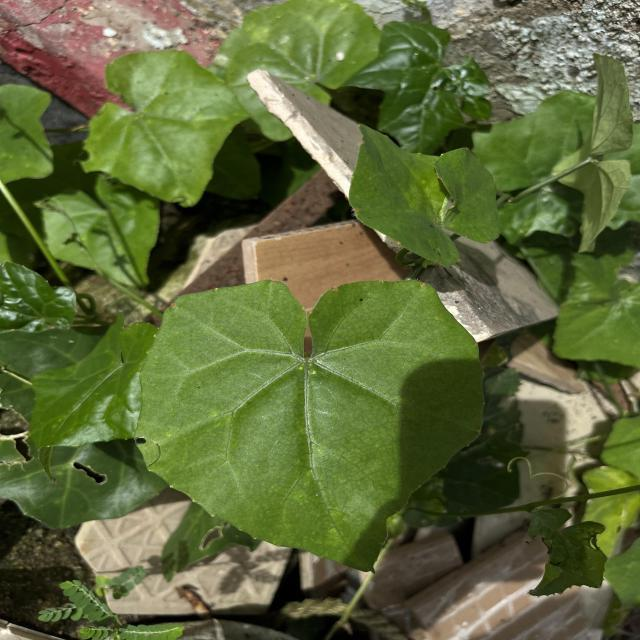Coccinia grandis: (132, 276, 488, 578)
